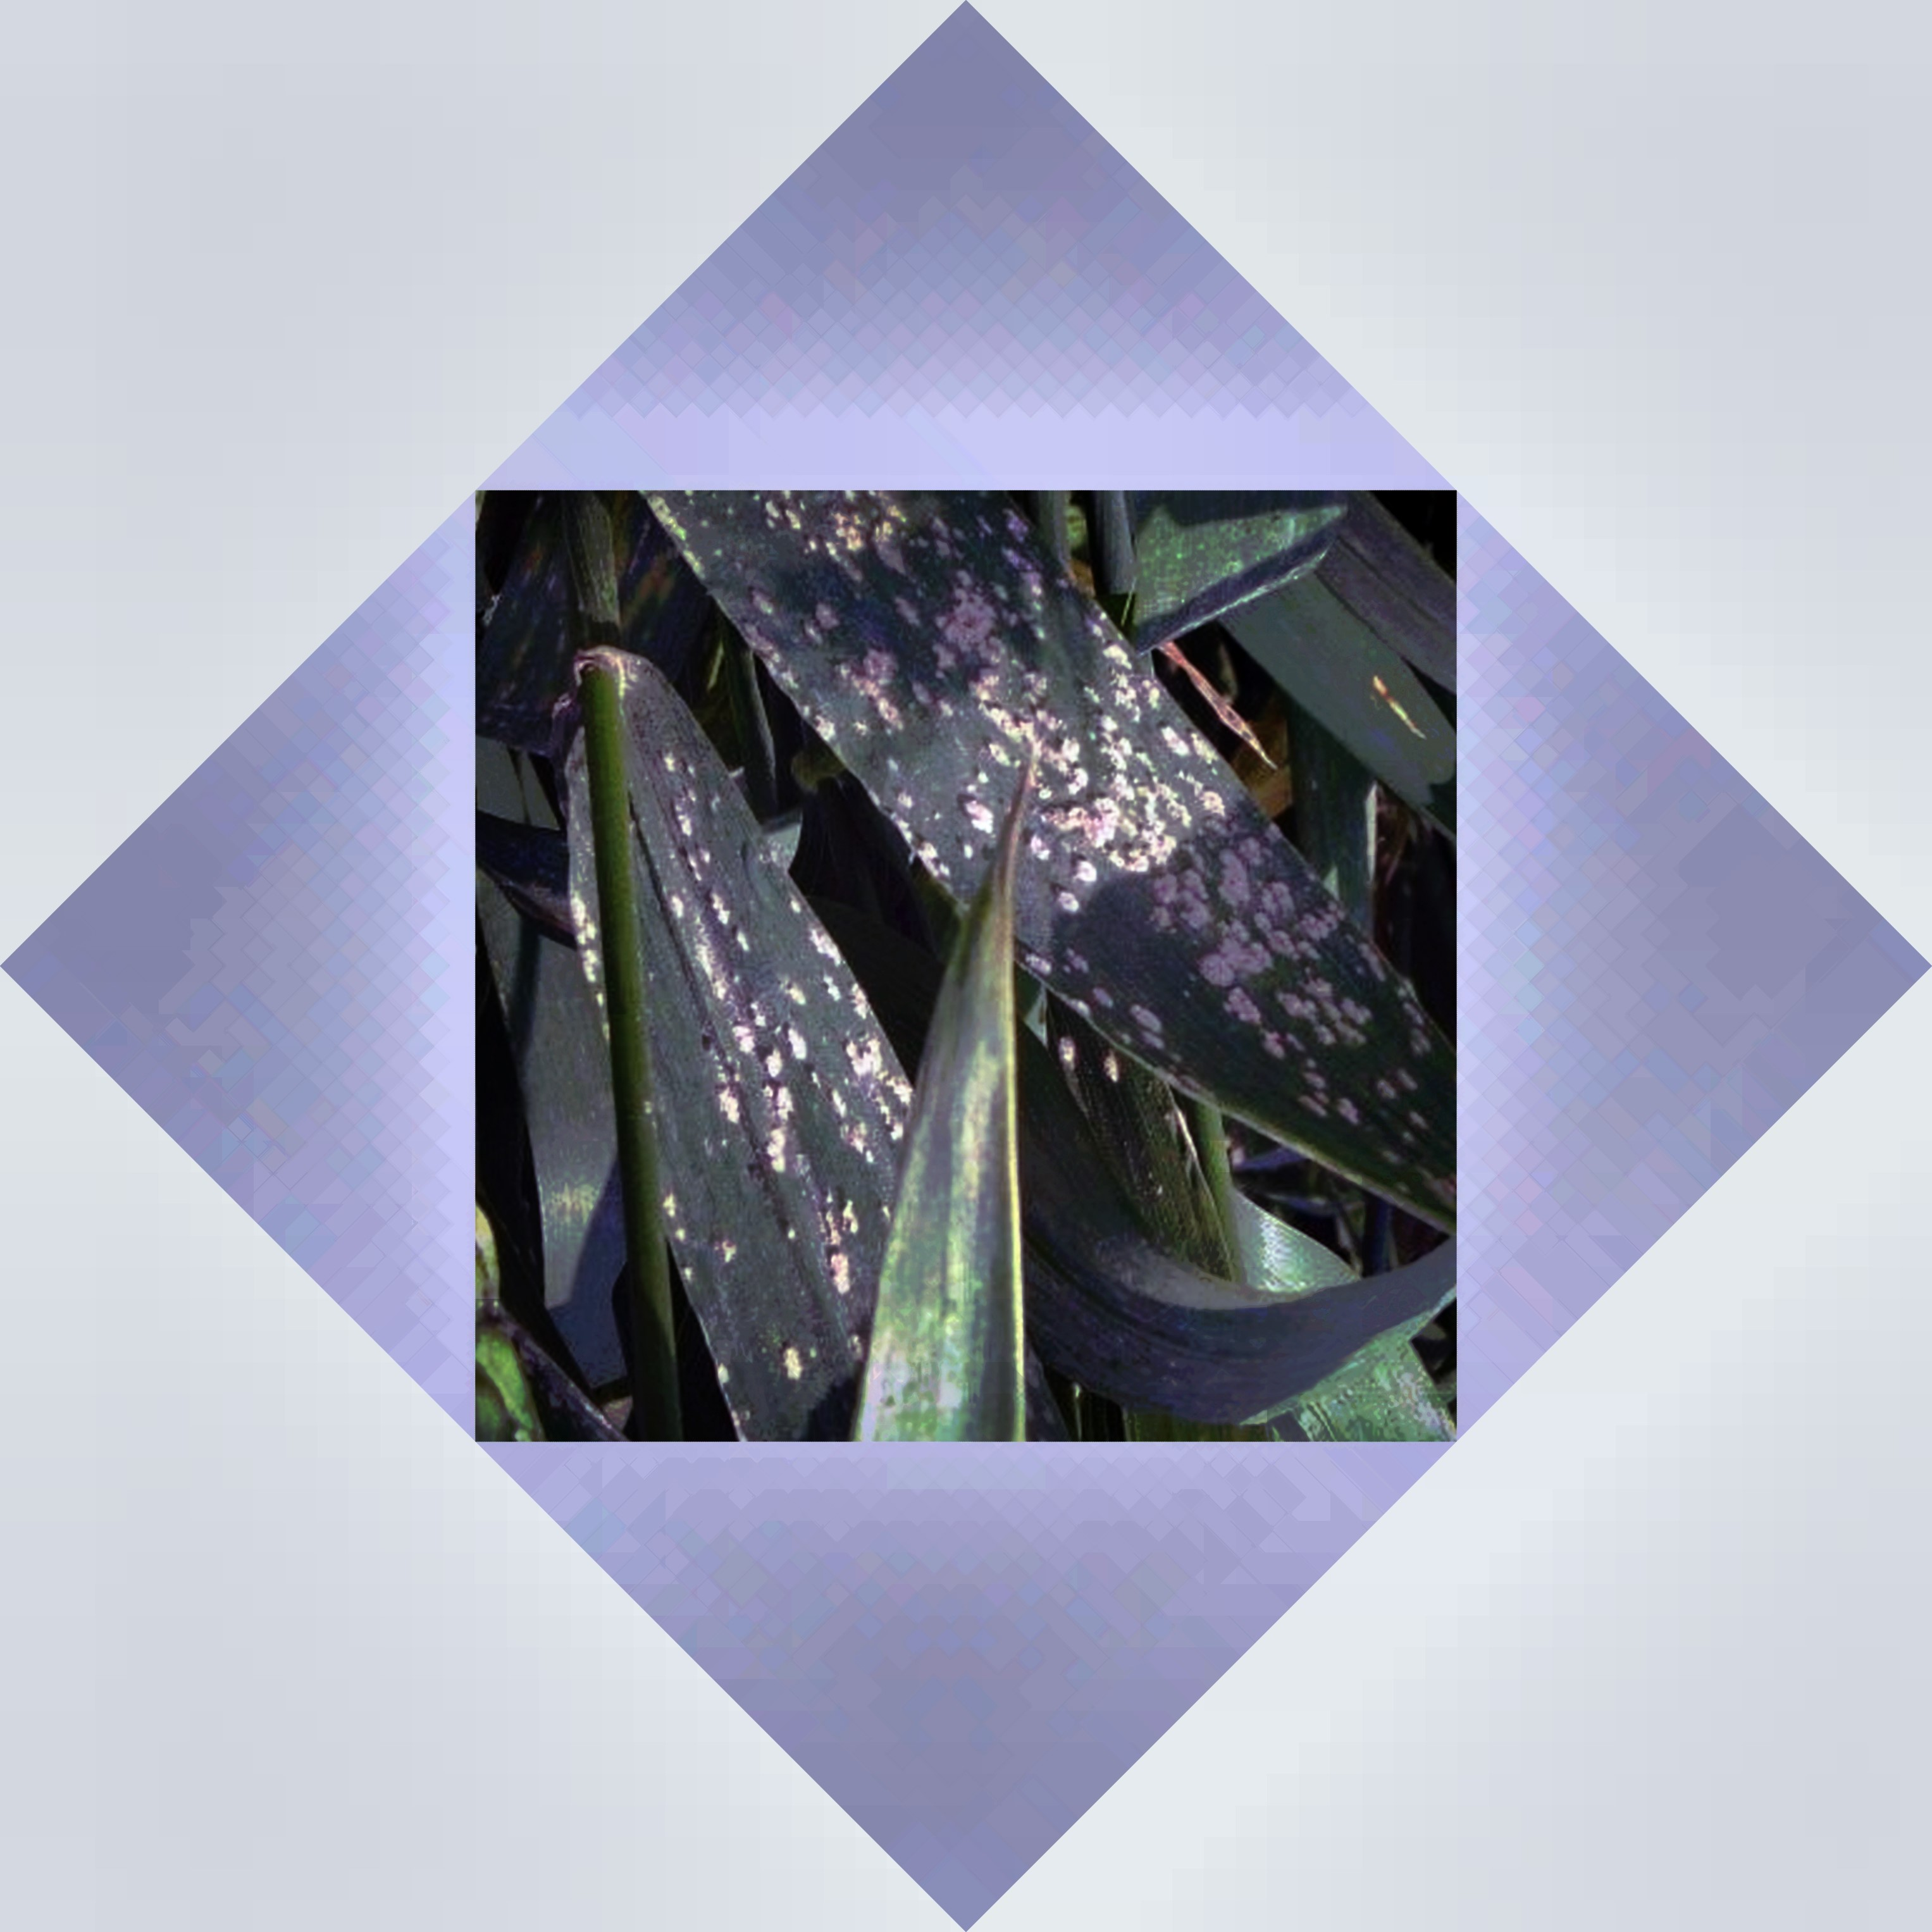Powdery Mildew: (787, 515, 1426, 1173)
